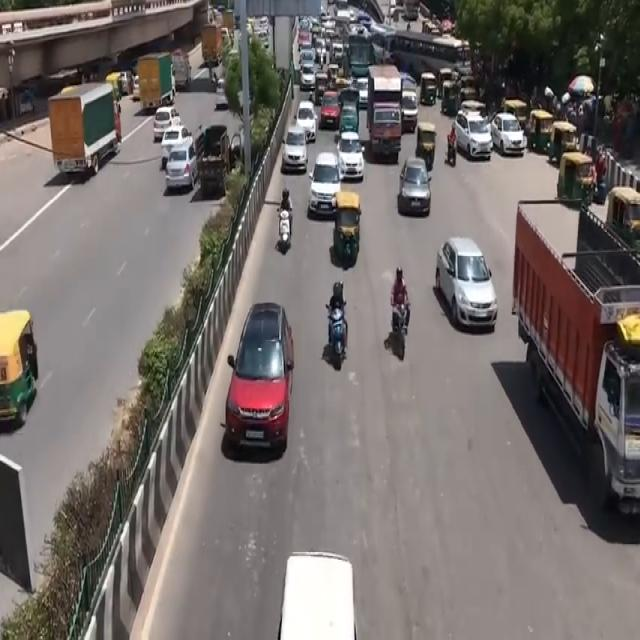BUS: (364, 63, 404, 160), (345, 40, 372, 82)
MOTORCYCLE: (327, 309, 349, 375), (278, 210, 292, 258)
SED: (442, 245, 499, 332)
SUV: (224, 300, 294, 447)
TRUCK: (516, 188, 640, 523)
